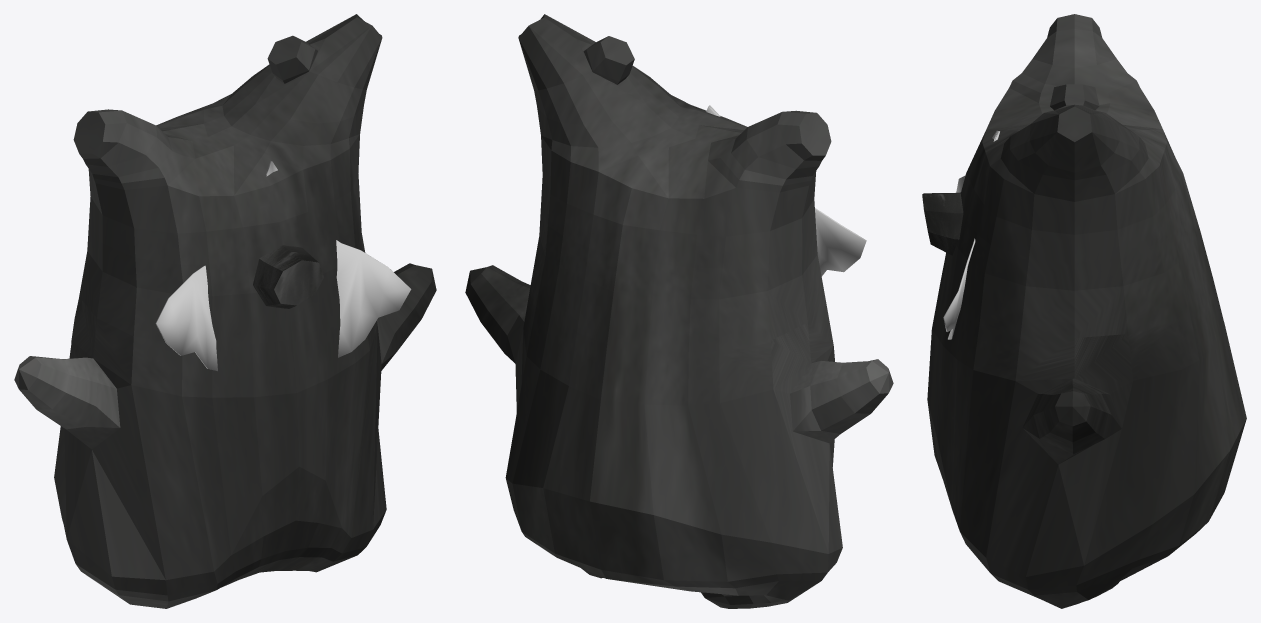
The model's file is frame_0047.obj.
The picture shows the model from 3 angles, left to right: view 1: azimuth 30°, elevation 25°; view 2: azimuth 150°, elevation 25°; view 3: azimuth 270°, elevation 25°; orthographic projection. The views are drawn at different scales.
Parts seen in each view (by area): view 1: korok, leaf, nose; view 2: korok, leaf; view 3: korok, nose, leaf.
Boxes of the visible parts, <box> form: korok: <box>14,14,436,608</box>; leaf: <box>155,161,411,371</box>; nose: <box>253,245,323,308</box>; korok: <box>465,14,893,608</box>; leaf: <box>706,105,866,276</box>; korok: <box>927,14,1246,608</box>; nose: <box>922,192,963,255</box>; leaf: <box>943,130,999,339</box>.
Size of the model in its own units: 1.69 by 2.08 by 1.17.
